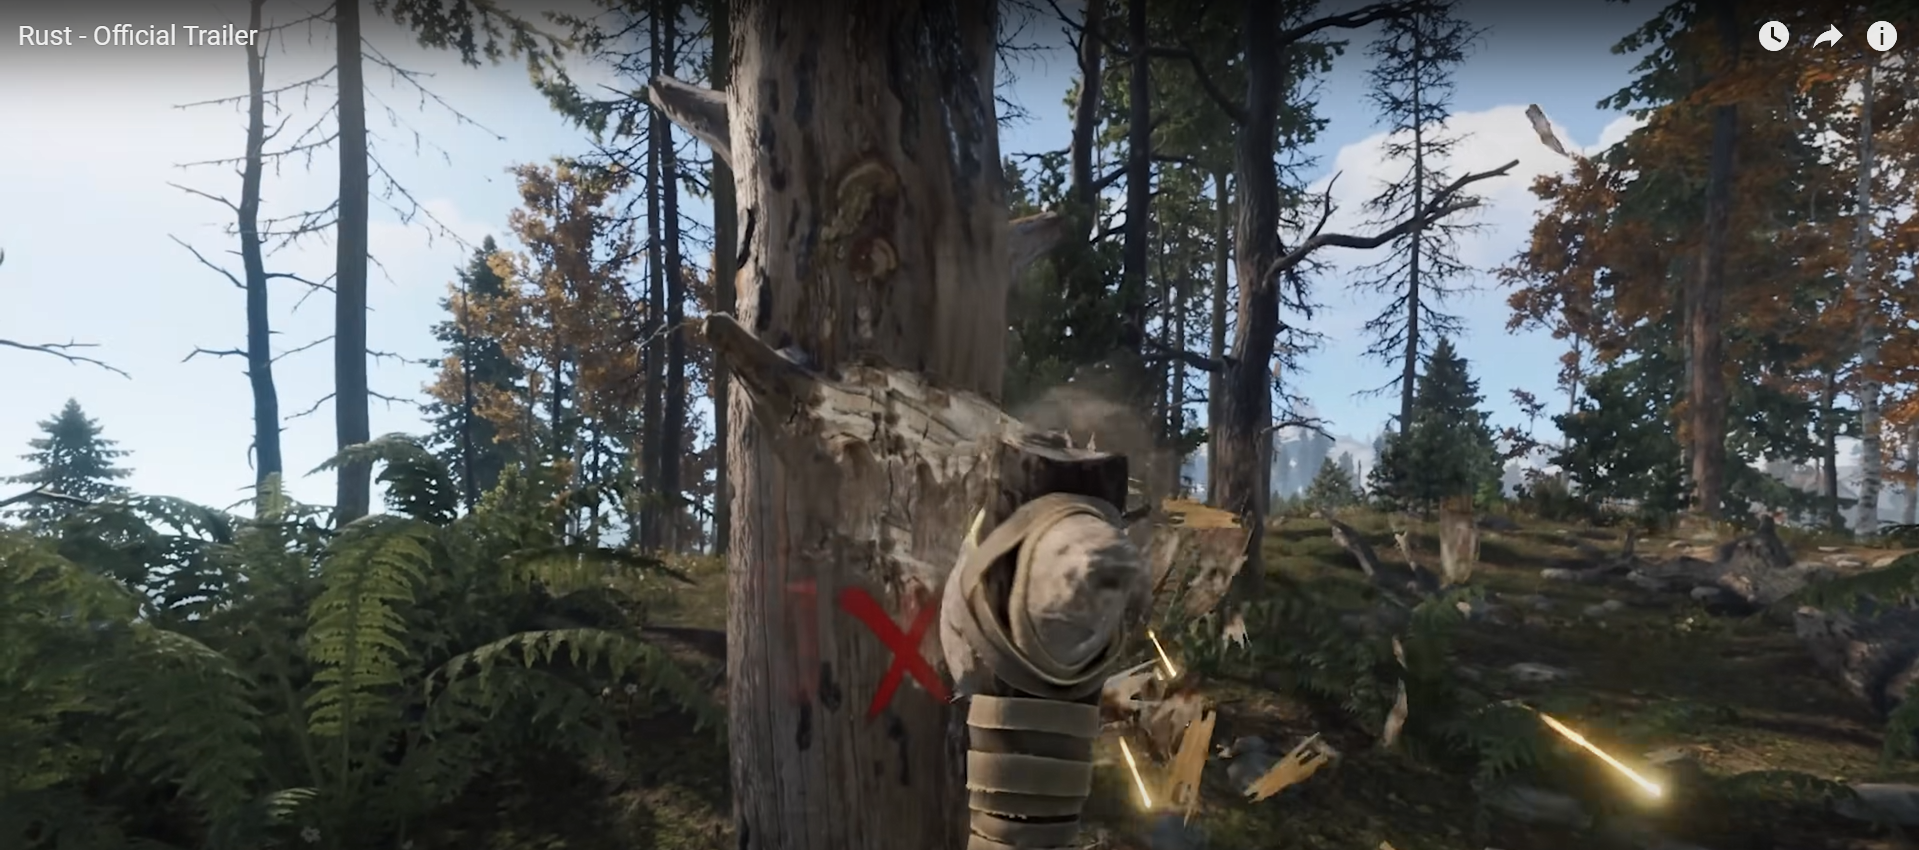cross: (837, 571, 944, 712)
tree: (728, 1, 1008, 846), (432, 212, 625, 565), (1608, 504, 1919, 701), (233, 26, 326, 596), (616, 6, 696, 597), (1367, 17, 1458, 519), (323, 2, 401, 571), (1673, 5, 1746, 560), (1219, 2, 1287, 588), (1, 372, 142, 597), (1839, 15, 1895, 556), (1395, 22, 1432, 505), (447, 296, 507, 552), (530, 292, 583, 548)
